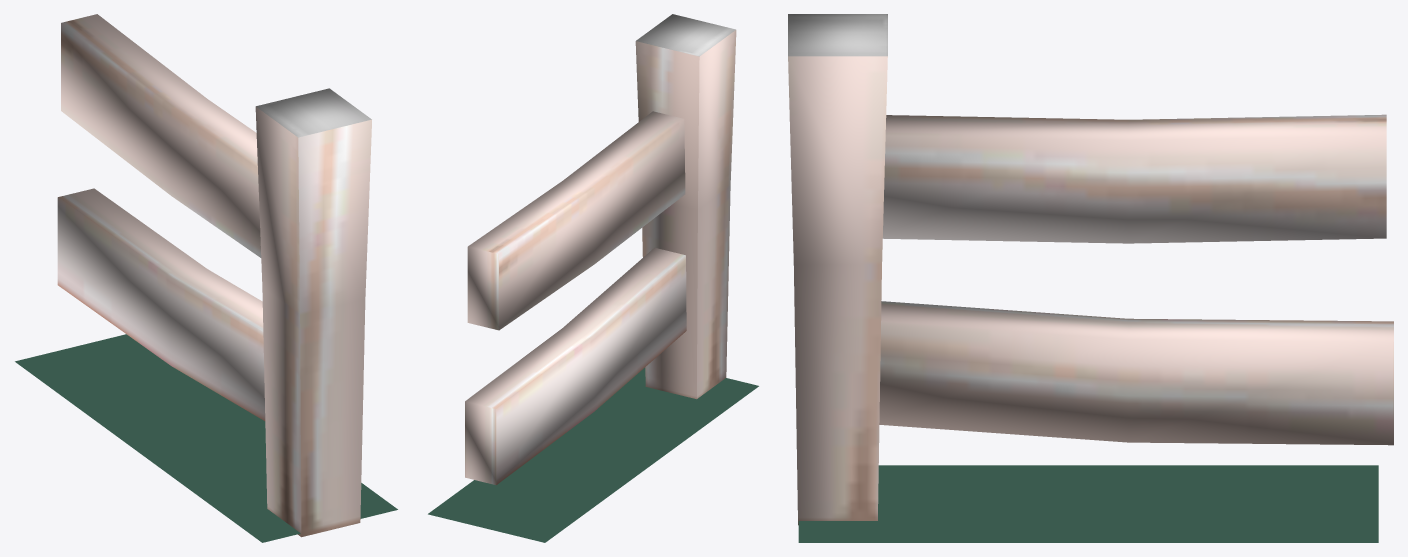
Rendered from FarmFence01.fbx.
3 views of the same model, side by side, from view 1: azimuth 30°, elevation 25°; view 2: azimuth 150°, elevation 25°; view 3: azimuth 270°, elevation 25° (orthographic). The views are drawn at different scales.
Visible parts, largest first — view 1: FarmFence01, FarmFenceShadow; view 2: FarmFence01, FarmFenceShadow; view 3: FarmFence01, FarmFenceShadow.
Part boxes in pixels (bbox=[...]): FarmFence01: bbox=[57, 14, 371, 537]; FarmFenceShadow: bbox=[15, 334, 397, 542]; FarmFence01: bbox=[465, 14, 736, 485]; FarmFenceShadow: bbox=[428, 367, 758, 542]; FarmFence01: bbox=[788, 14, 1393, 525]; FarmFenceShadow: bbox=[798, 465, 1378, 542].
Bounding box in the file's own units: 0.401 × 1.14 × 1.32.
